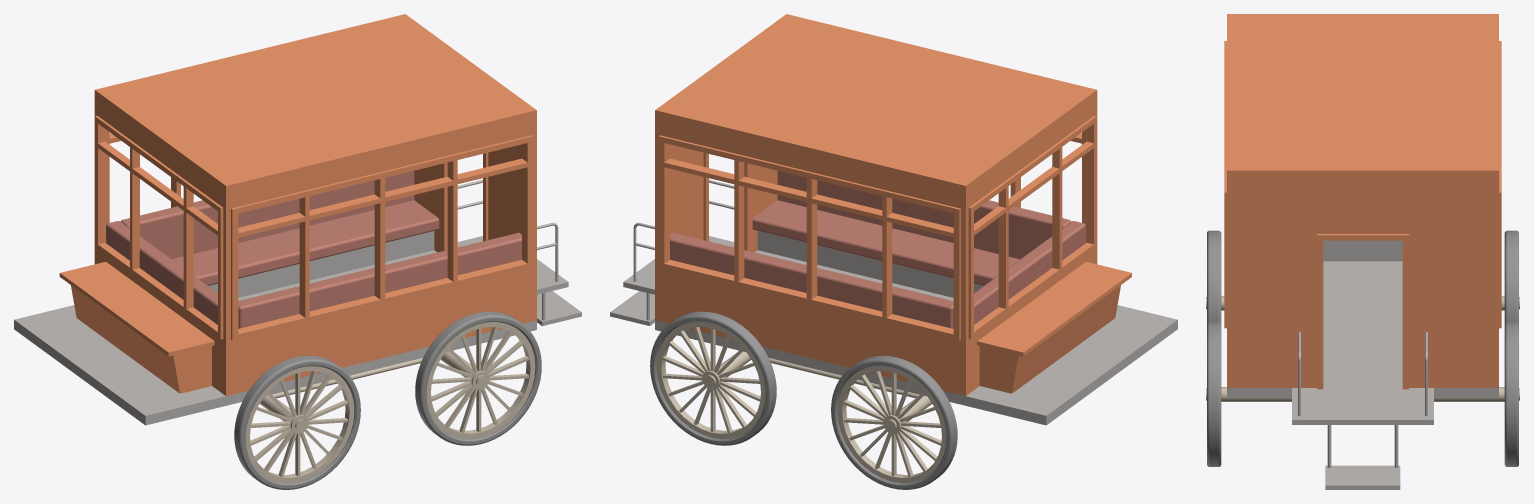
File: 909_carriage.glb
3 views of the same model, side by side, from view 1: azimuth 30°, elevation 25°; view 2: azimuth 150°, elevation 25°; view 3: azimuth 270°, elevation 25° (orthographic). The views are drawn at different scales.
Parts seen in each view (by area): view 1: top, bottom, kabe_3, kabe_2, chair_1, chair_3, kabe_4, chair_2, kabe_1; view 2: top, bottom, kabe_1, kabe_2, chair_3, chair_1, kabe_4, chair_2, kabe_3; view 3: top, kabe_4, bottom, chair_2, kabe_3, kabe_1.
Part boxes in pixels (<box>): top: <box>94,14,536,195</box>; bottom: <box>14,180,581,489</box>; kabe_3: <box>231,120,533,394</box>; kabe_2: <box>59,99,230,395</box>; chair_1: <box>120,171,439,297</box>; chair_3: <box>238,232,521,328</box>; kabe_4: <box>414,119,536,321</box>; chair_2: <box>106,221,238,328</box>; kabe_1: <box>105,129,180,242</box>; top: <box>655,14,1097,195</box>; bottom: <box>610,180,1177,489</box>; kabe_1: <box>658,120,960,394</box>; kabe_2: <box>961,99,1131,396</box>; chair_3: <box>752,171,1071,297</box>; chair_1: <box>670,232,953,328</box>; kabe_4: <box>655,119,777,321</box>; chair_2: <box>953,221,1085,328</box>; kabe_3: <box>1010,129,1086,242</box>; top: <box>1227,14,1498,180</box>; kabe_4: <box>1227,180,1498,389</box>; bottom: <box>1206,230,1519,489</box>; chair_2: <box>1323,240,1402,261</box>; kabe_3: <box>1224,41,1226,328</box>; kabe_1: <box>1499,41,1501,328</box>.
Bounding box in the file's own units: 6.75 × 4.15 × 3.66.
